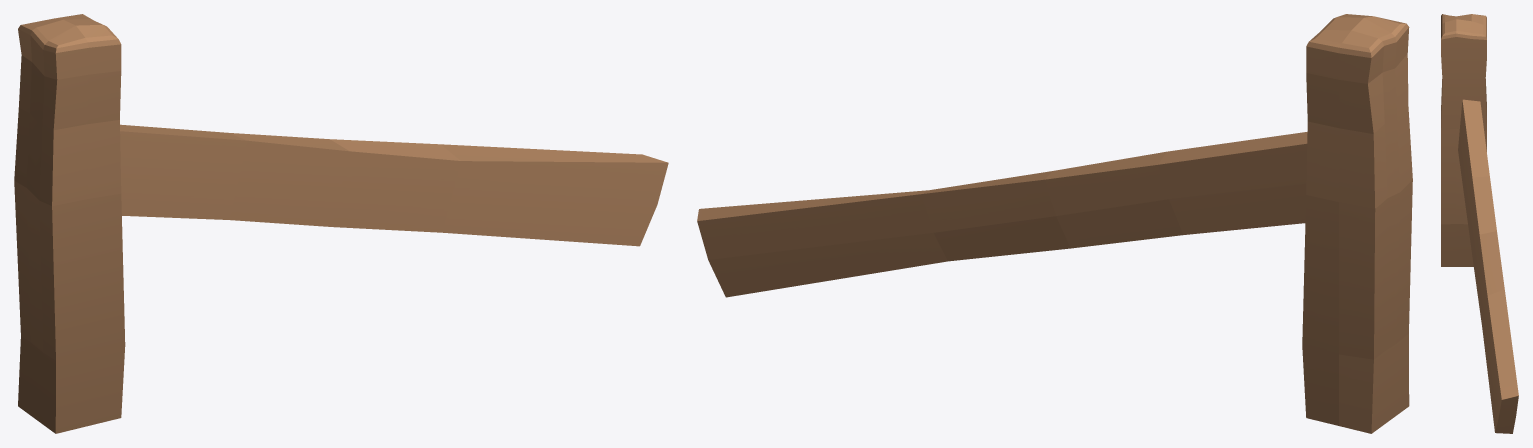
File: untreated fence left 2.fbx
The picture shows the model from 3 angles, left to right: view 1: azimuth 30°, elevation 25°; view 2: azimuth 150°, elevation 25°; view 3: azimuth 270°, elevation 25°; orthographic projection. The views are drawn at different scales.
Parts seen in each view (by area): view 1: untreated fence left 2; view 2: untreated fence left 2; view 3: untreated fence left 2.
Part boxes in pixels (x1=…): untreated fence left 2: x1=14, y1=14, x2=668, y2=433; untreated fence left 2: x1=697, y1=14, x2=1412, y2=433; untreated fence left 2: x1=1441, y1=14, x2=1518, y2=433.
Bounding box in the file's own units: 265 × 149 × 44.07.
